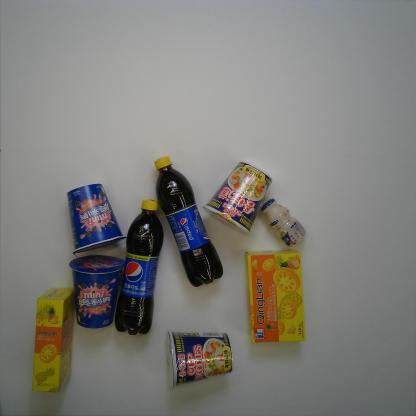Dessert: (245, 248, 306, 344), (32, 286, 76, 394), (66, 183, 127, 259), (69, 254, 126, 329)
Drink: (154, 155, 223, 288), (115, 198, 164, 336)
Instant Noodles: (202, 160, 273, 236), (165, 330, 233, 389)
Milk: (261, 198, 307, 247)
